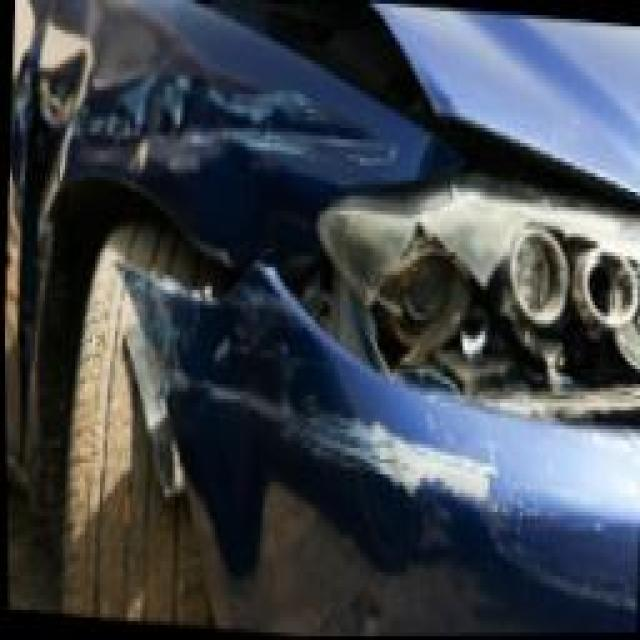Bonnet: (402, 11, 640, 187)
Bumper: (125, 294, 640, 640)
Fender: (32, 0, 340, 239)
Light: (330, 166, 640, 395)
